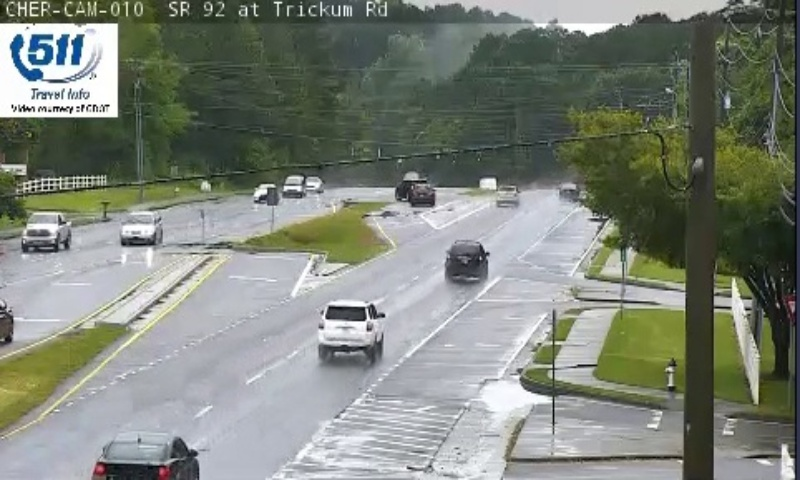car: (92, 433, 197, 480), (318, 301, 381, 351), (444, 240, 487, 279)
